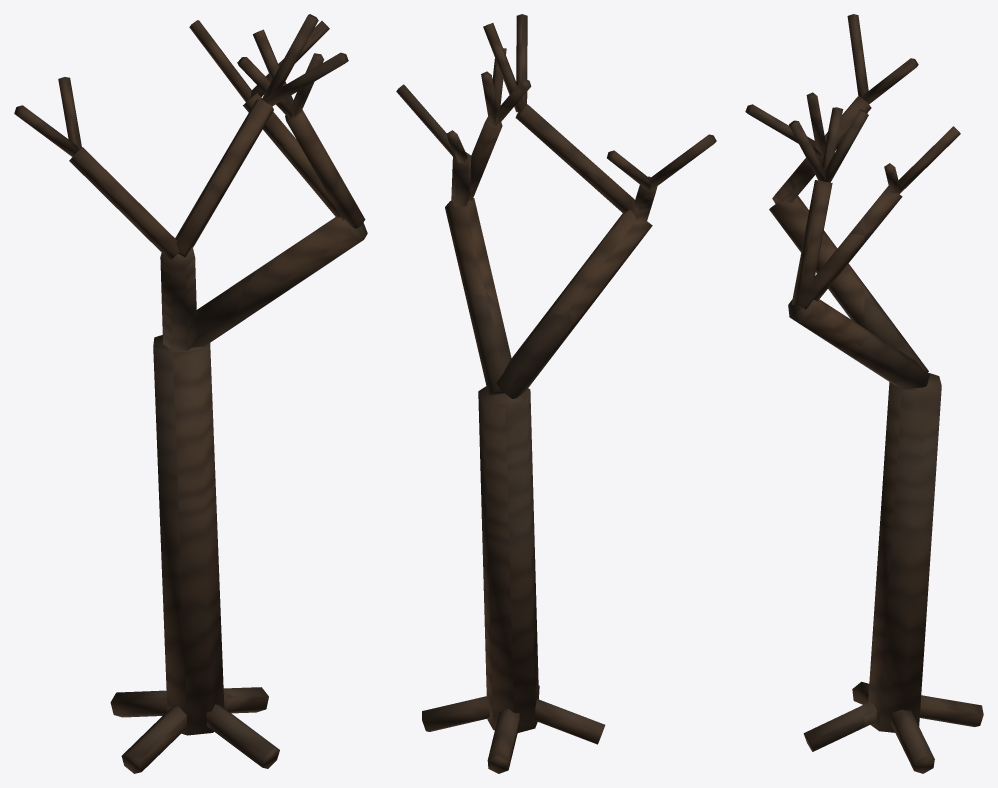
File: R21_dead_tree_v3.glb
The picture shows the model from 3 angles, left to right: view 1: azimuth 30°, elevation 25°; view 2: azimuth 150°, elevation 25°; view 3: azimuth 270°, elevation 25°; orthographic projection. The views are drawn at different scales.
Parts seen in each view (by area): view 1: R21_dead_tree_v3; view 2: R21_dead_tree_v3; view 3: R21_dead_tree_v3.
Part boxes in pixels (<box>): R21_dead_tree_v3: <box>14,14,367,773</box>; R21_dead_tree_v3: <box>396,14,716,773</box>; R21_dead_tree_v3: <box>745,14,983,773</box>.
Size of the model in its own units: 2.81 by 6 by 1.91.
Materials: 1 (1 with a texture image).
